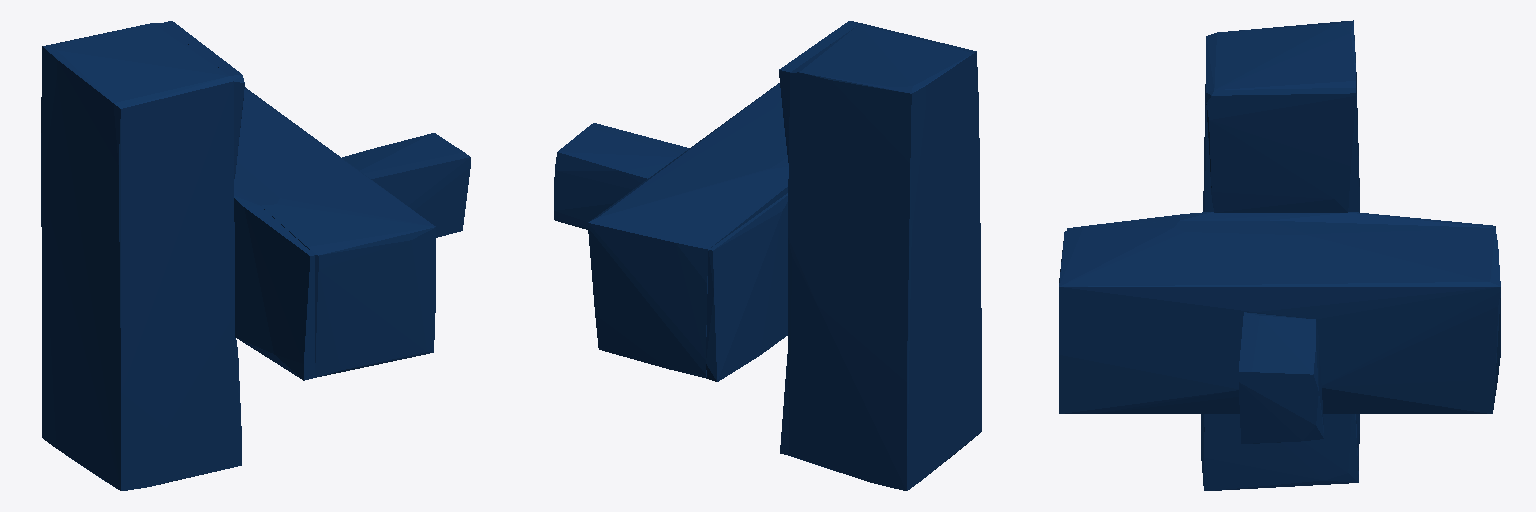
URDF robot description (blob150):
<robot name="blob150">
  <link name="random_obj_150">
    <contact>
      <lateral_friction value="1.0"/>
      <rolling_friction value="0.0"/>
      <inertia_scaling value="3.0"/>
      <contact_cfm value="0.0"/>
      <contact_erp value="1.0"/>
    </contact>
    <inertial>
      <origin rpy="0 0 0" xyz="0 0 0"/>
      <mass value="0.1"/>
      <inertia ixx="1" ixy="0" ixz="0" iyy="1" iyz="0" izz="0"/>
    </inertial>
    <visual>
      <origin rpy="0 0 0" xyz="0 0 0"/>
      <geometry>
        <mesh filename="150.obj" scale="0.015 0.015 0.015"/>
      </geometry>
      <material name="blockmat">
        <color rgba="0.10 0.24 0.41 1"/>
      </material>
    </visual>
    <collision>
      <origin rpy="0 0 0" xyz="0 0 0"/>
      <geometry>
        <mesh filename="150.obj" scale="0.015 0.015 0.015"/>
      </geometry>
    </collision>
  </link>
</robot>

--- Facts derived from the render (not from the file) ---
Views: 3 orthographic renders of the robot side by side, from view 1: azimuth 30°, elevation 25°; view 2: azimuth 150°, elevation 25°; view 3: azimuth 270°, elevation 25°.
Robot: blob150 — 1 links, 0 joints (none); root link random_obj_150; default pose: all joints at 0.
Links seen in each view (by area): view 1: random_obj_150; view 2: random_obj_150; view 3: random_obj_150.
Link boxes in pixels (left/top/right/bottom): random_obj_150: left=41, top=21, right=470, bottom=490; random_obj_150: left=554, top=21, right=981, bottom=490; random_obj_150: left=1059, top=20, right=1500, bottom=490.
Size in the robot's own frame: 0.0917 by 0.0917 by 0.0934 metres.
Meshes: 1 distinct files referenced, 1 mesh visuals loaded (1 OBJ).